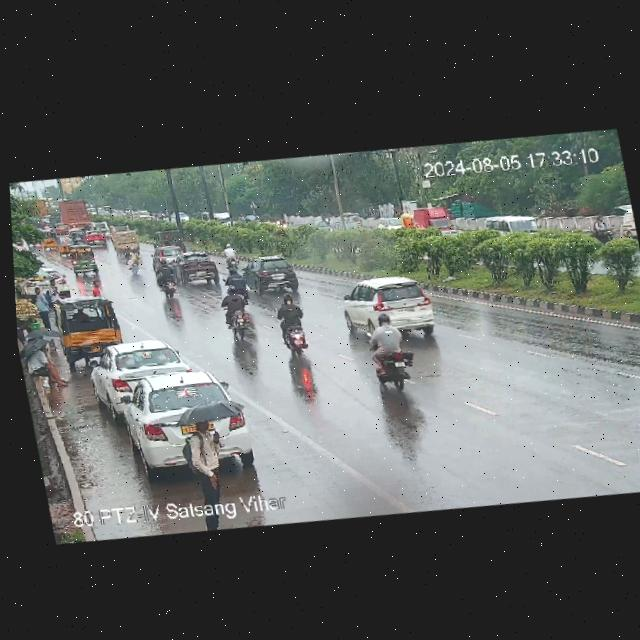car: (119, 364, 259, 481), (84, 335, 196, 422), (338, 267, 451, 347), (51, 292, 127, 364), (239, 250, 302, 299), (167, 243, 221, 290), (64, 242, 102, 277), (148, 244, 185, 265), (37, 226, 59, 252), (84, 228, 109, 249)
motorcycle: (357, 306, 419, 397), (269, 293, 317, 356), (214, 284, 260, 344), (153, 259, 187, 300), (220, 243, 241, 270), (125, 248, 142, 277)
person: (179, 395, 246, 503), (20, 328, 66, 394), (32, 286, 55, 327)
truck: (56, 193, 95, 234), (110, 224, 142, 256)
